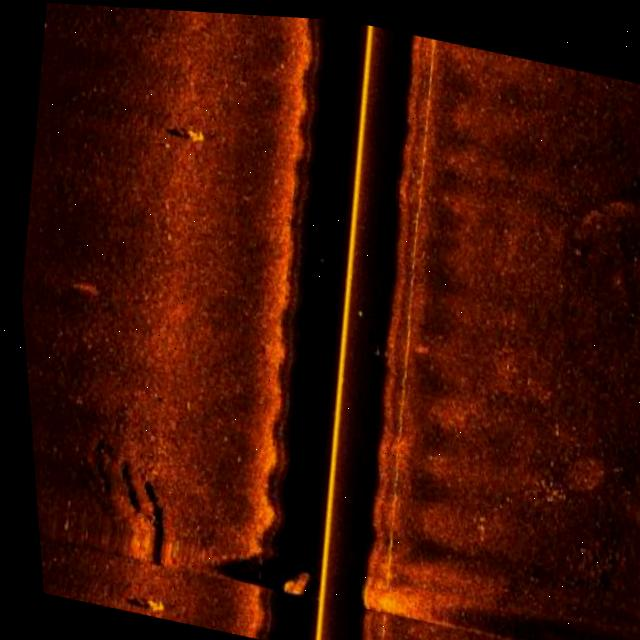mine: (170, 121, 211, 146), (124, 592, 156, 612)
